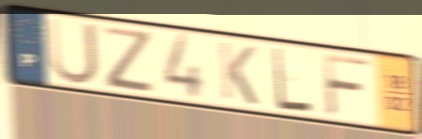4: (160, 31, 208, 102)
F: (321, 51, 374, 120)
K: (217, 39, 261, 108)
L: (271, 45, 315, 115)
U: (45, 15, 102, 88)
Z: (103, 24, 155, 96)
